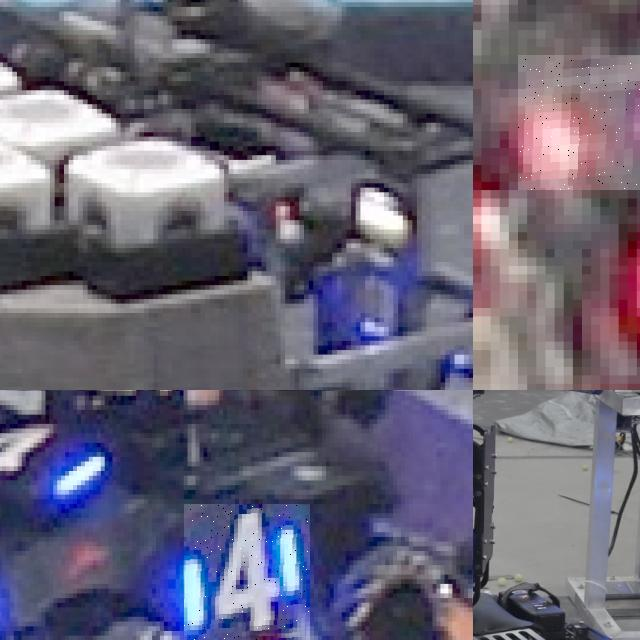B4: (183, 504, 310, 640), (0, 391, 108, 490)
R4: (517, 55, 640, 189)
